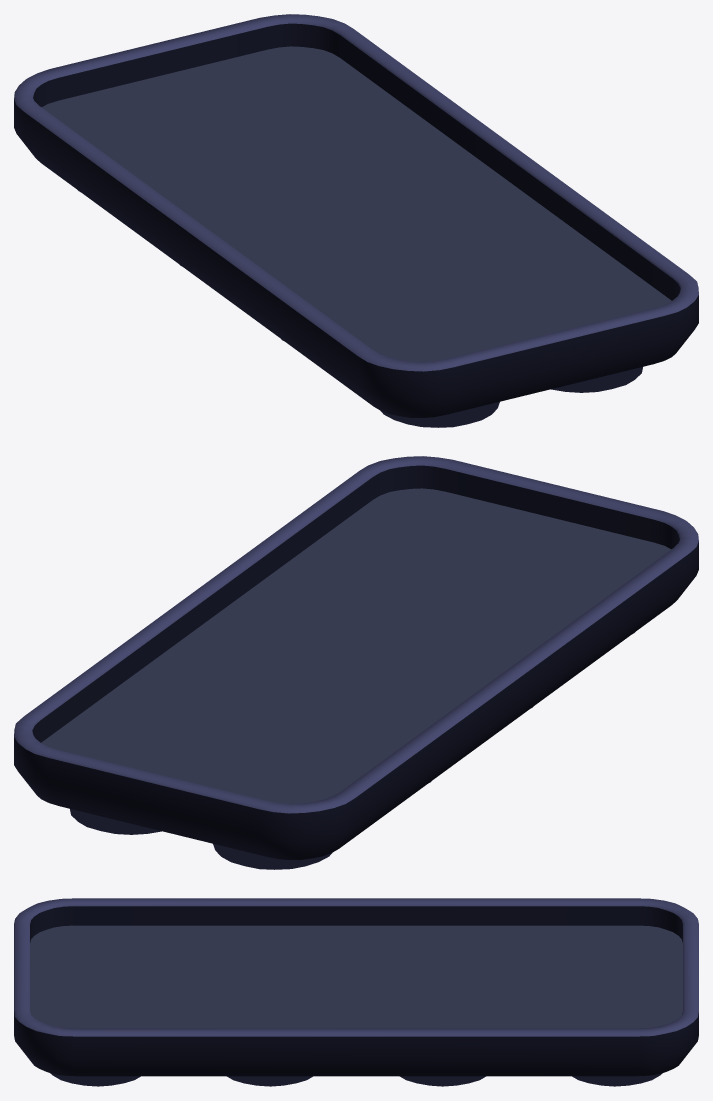
File: Tray.fbx
The picture shows the model from 3 angles, top to bottom: view 1: azimuth 30°, elevation 25°; view 2: azimuth 150°, elevation 25°; view 3: azimuth 270°, elevation 25°; orthographic projection. The views are drawn at different scales.
Visible parts, largest first — view 1: Tray_02, Tray_00, Tray_01, Tray_04; view 2: Tray_02, Tray_00, Tray_01, Tray_04; view 3: Tray_02, Tray_00, Tray_01, Tray_04.
Boxes of the visible parts, x1,y1,x2,y2 form: Tray_02: [42, 46, 671, 361]; Tray_00: [14, 23, 698, 417]; Tray_01: [14, 14, 698, 371]; Tray_04: [78, 190, 642, 427]; Tray_02: [41, 488, 670, 803]; Tray_00: [14, 465, 698, 859]; Tray_01: [14, 456, 698, 813]; Tray_04: [70, 632, 634, 869]; Tray_02: [30, 925, 682, 1028]; Tray_00: [14, 906, 698, 1076]; Tray_01: [14, 898, 698, 1036]; Tray_04: [50, 1073, 662, 1086].
Size of the model in its own units: 518 by 121 by 1094.
